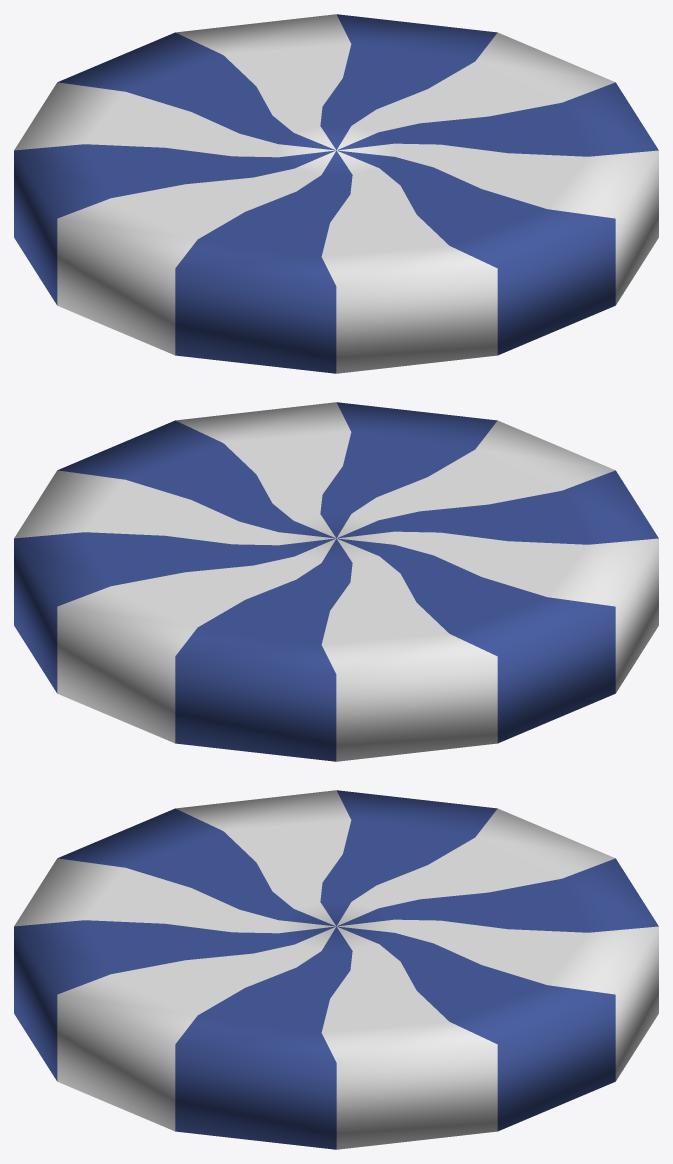
The model's file is Candy_01.fbx.
3 views of the same model, one above another, from view 1: azimuth 30°, elevation 25°; view 2: azimuth 150°, elevation 25°; view 3: azimuth 270°, elevation 25° (orthographic).
Visible parts, largest first — view 1: Candy_01; view 2: Candy_01; view 3: Candy_01.
Boxes of the visible parts, box(x1,y1,x2,y2) form: Candy_01: box(14, 14, 658, 373); Candy_01: box(14, 402, 658, 761); Candy_01: box(14, 790, 658, 1149).
Size of the model in its own units: 0.079 by 0.0118 by 0.079.
